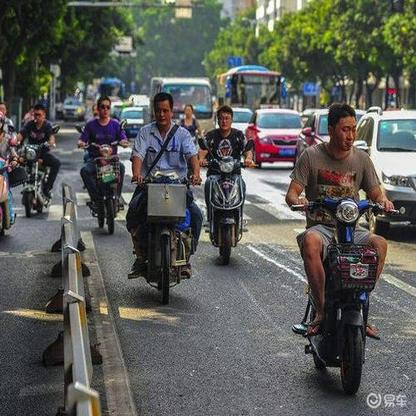target: (285, 103, 395, 395), (124, 92, 205, 306), (199, 106, 259, 262), (75, 95, 130, 235)
